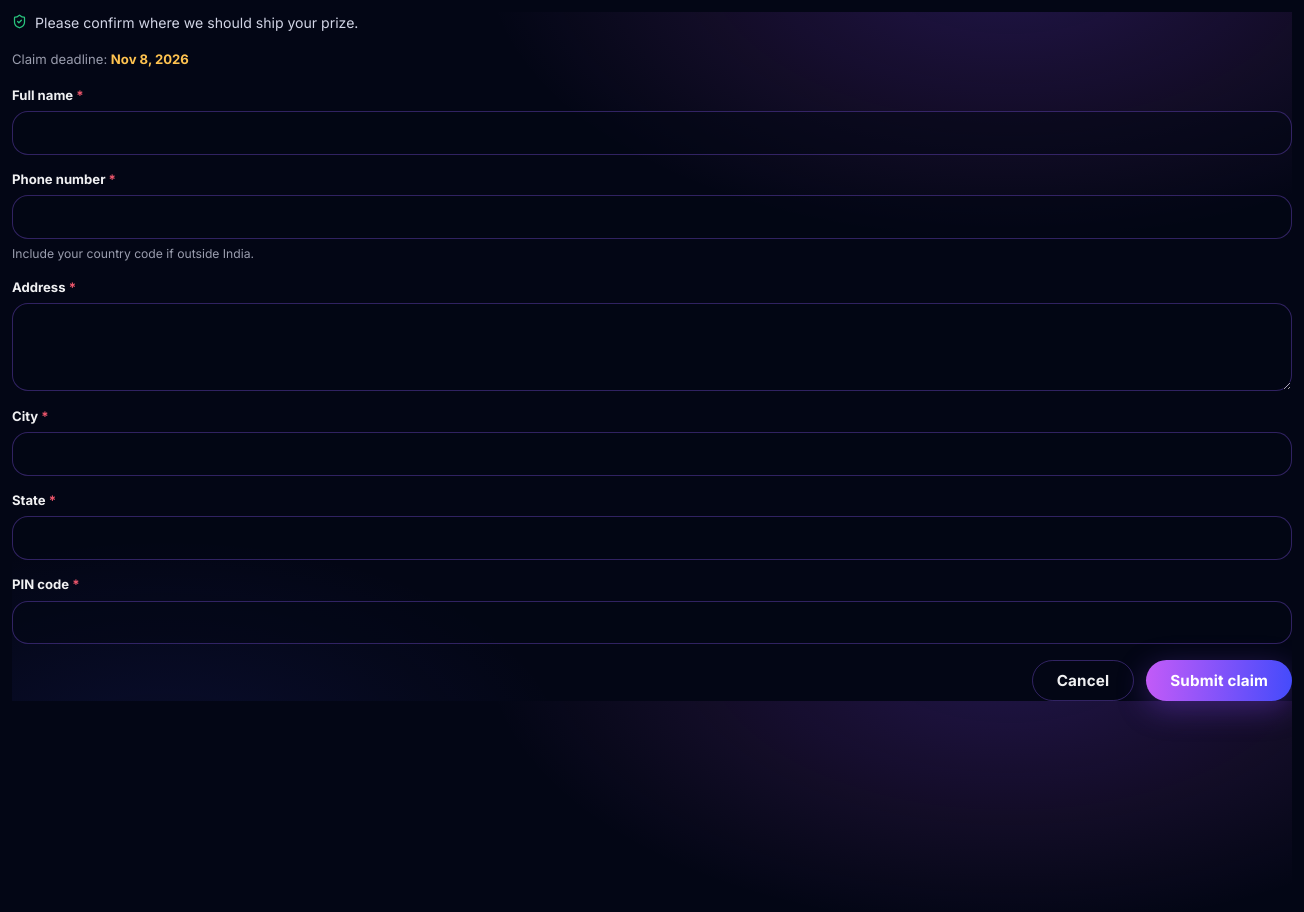
PrizeClaimForm submission › renders server VALIDATION errors onto the fields
Type "Asha Kumar" into the field labelled "Full name *".
click(652, 133); type("Asha Kumar")  # box x1=12 y1=111 x2=1292 y2=155
Type "9876543210" into the field labelled "Phone number *".
click(652, 217); type("9876543210")  # box x1=12 y1=195 x2=1292 y2=239
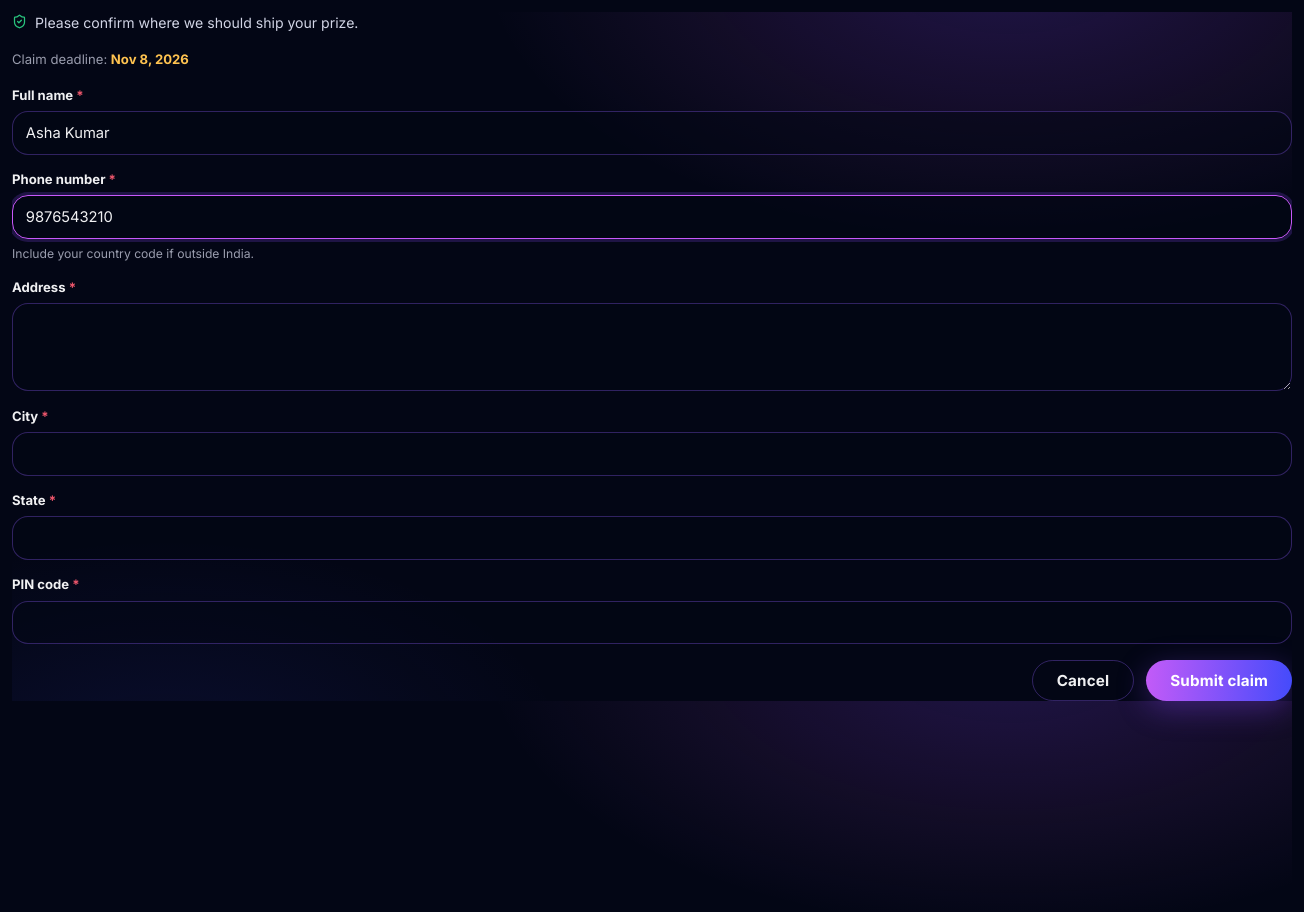
Type "12 MG Road" into the text box labelled "Address *".
click(652, 347); type("12 MG Road")  # box x1=12 y1=303 x2=1292 y2=391
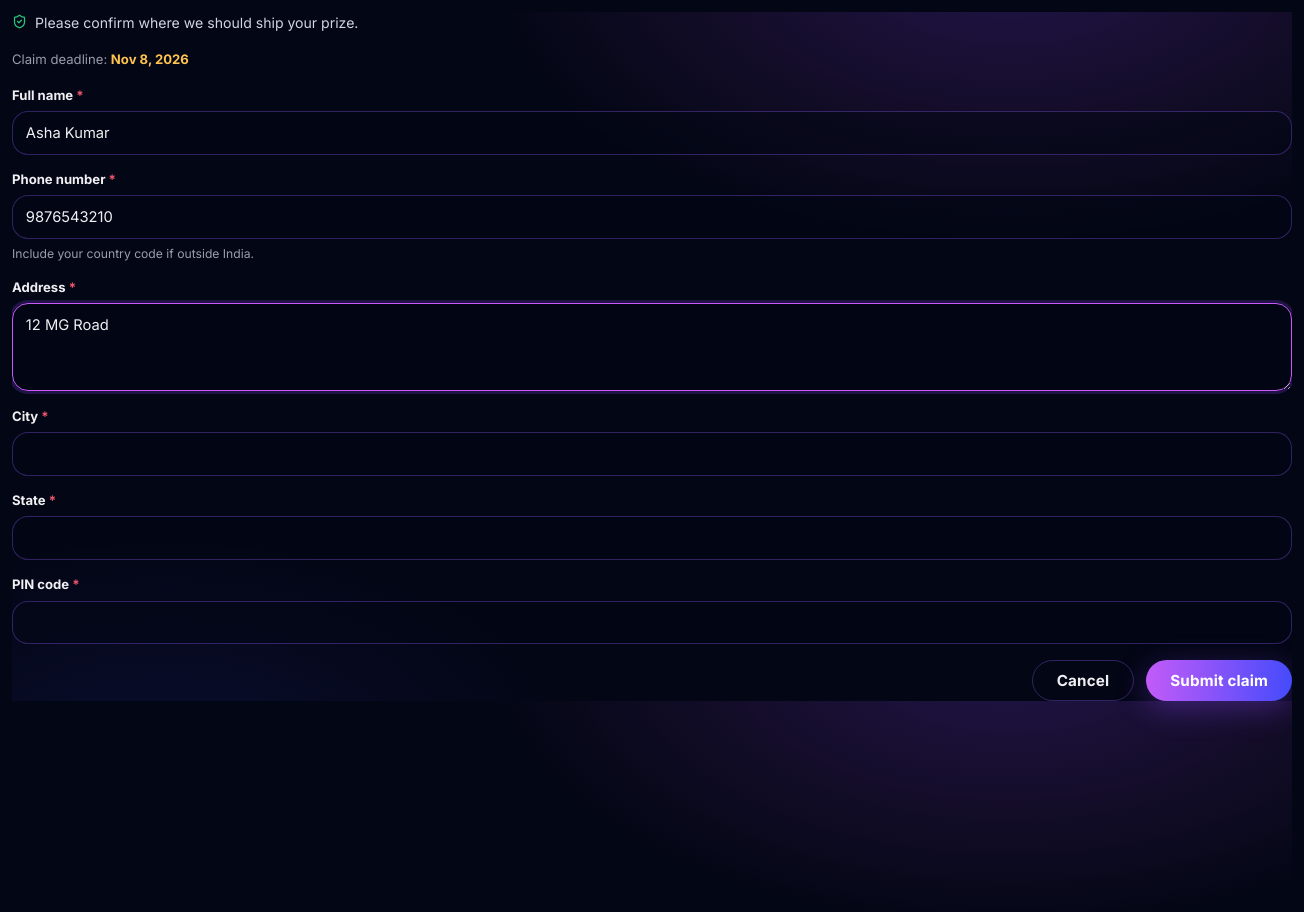
Type "Pune" into the field labelled "City *".
click(652, 454); type("Pune")  # box x1=12 y1=432 x2=1292 y2=476
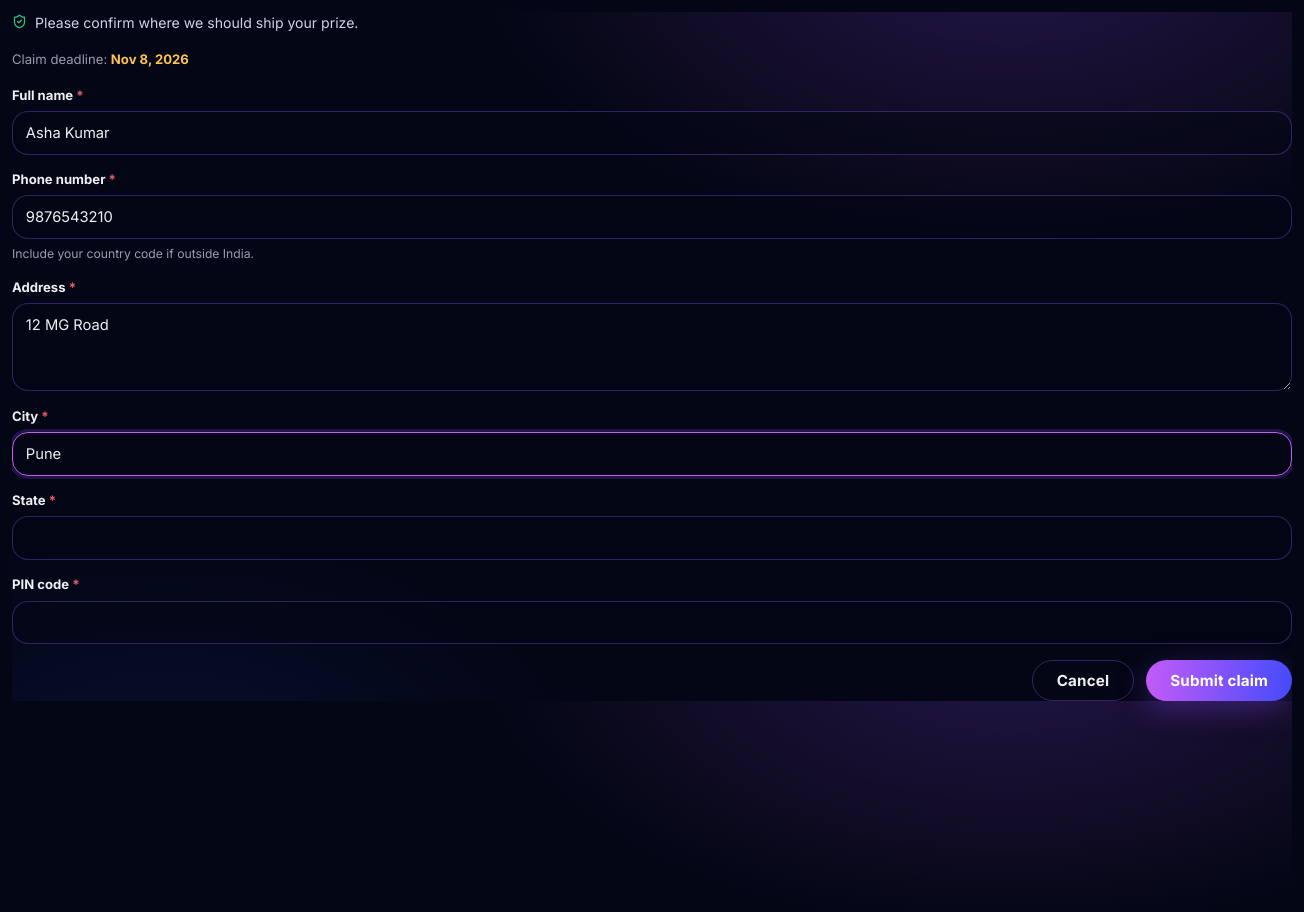
Type "Maharashtra" into the field labelled "State *".
click(652, 538); type("Maharashtra")  # box x1=12 y1=516 x2=1292 y2=560
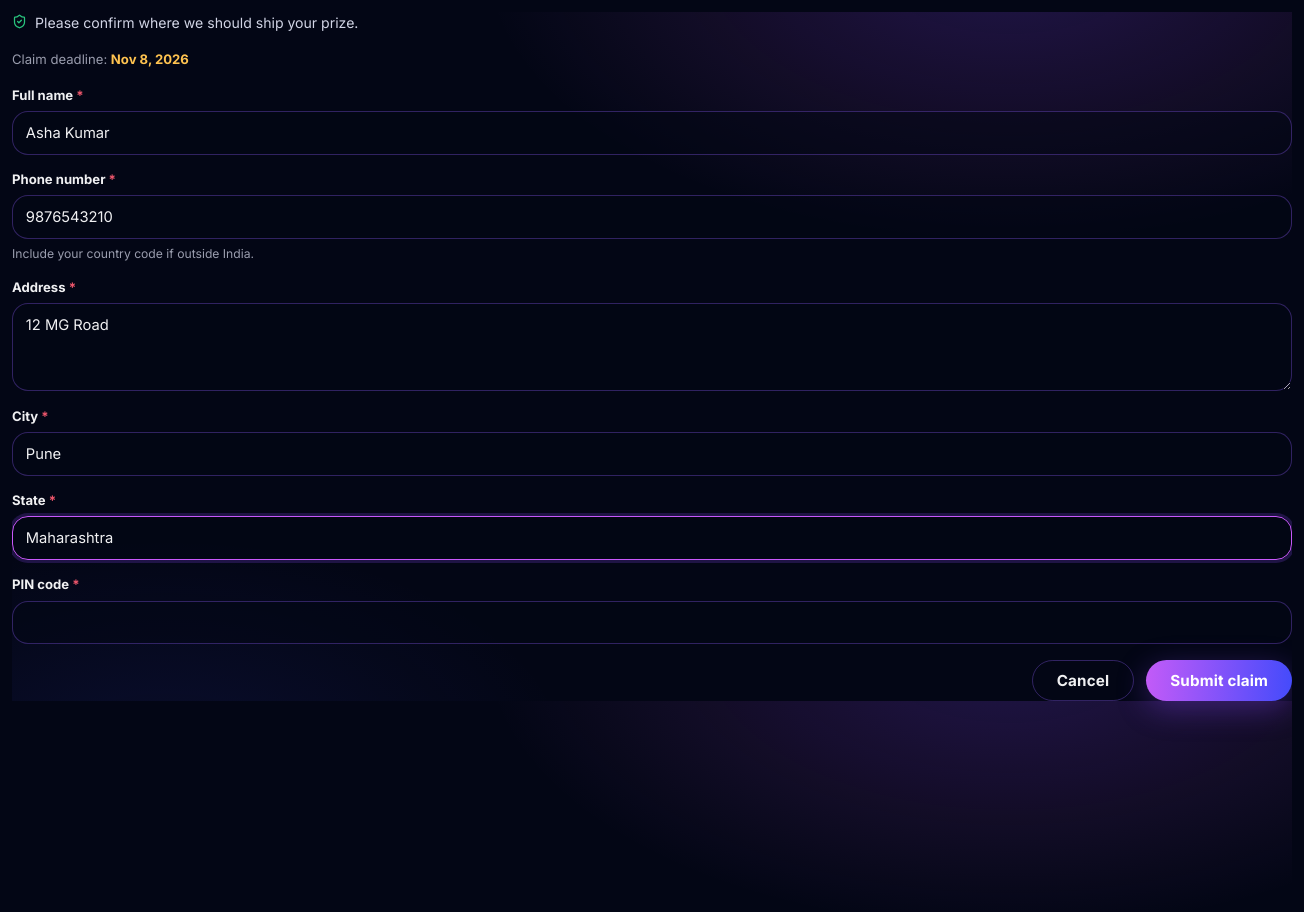
Type "123456" into the field labelled "PIN code *".
click(652, 623); type("123456")  # box x1=12 y1=601 x2=1292 y2=644
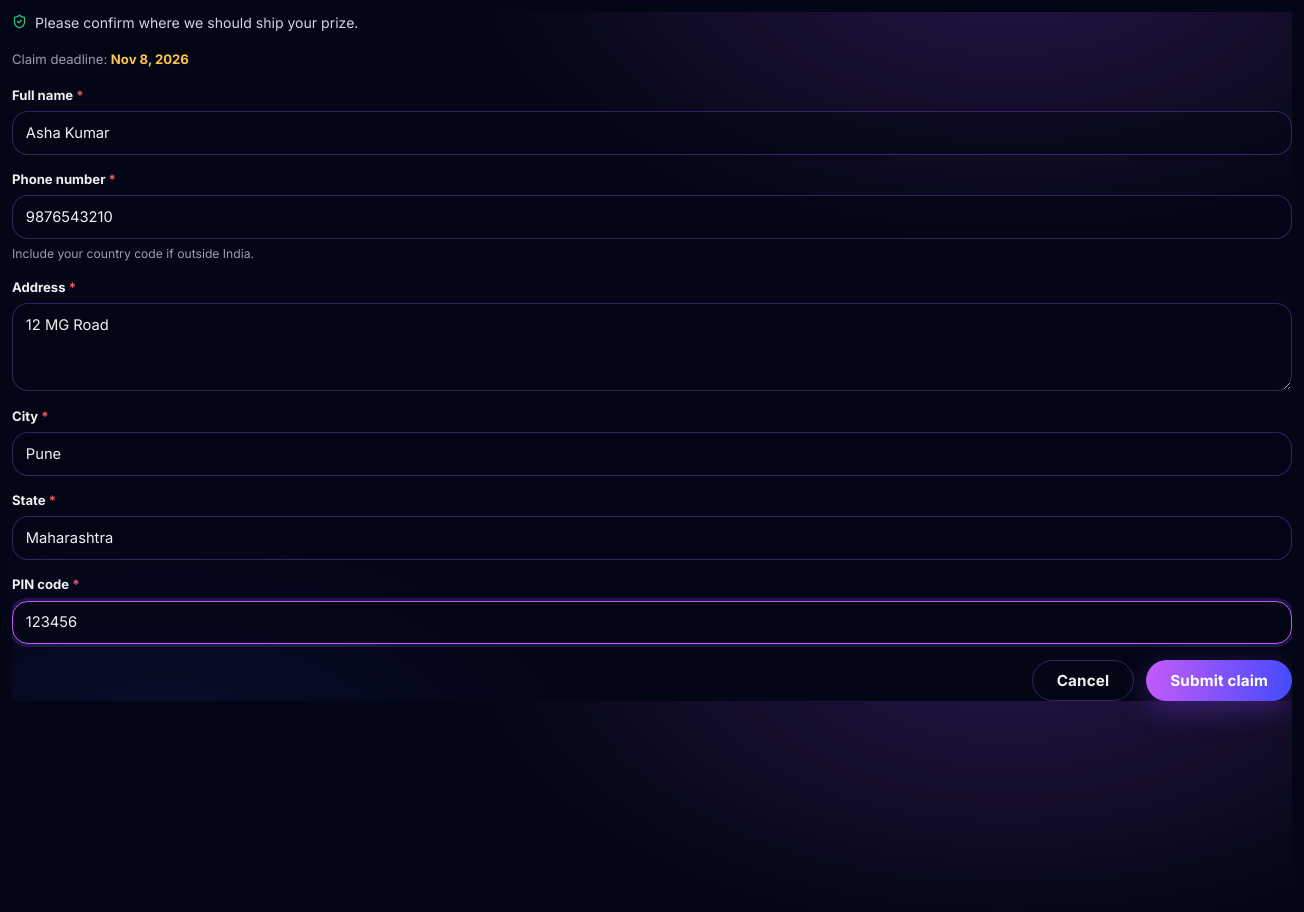
Click the button "Submit claim".
click(1219, 681)  # box x1=1146 y1=660 x2=1292 y2=701
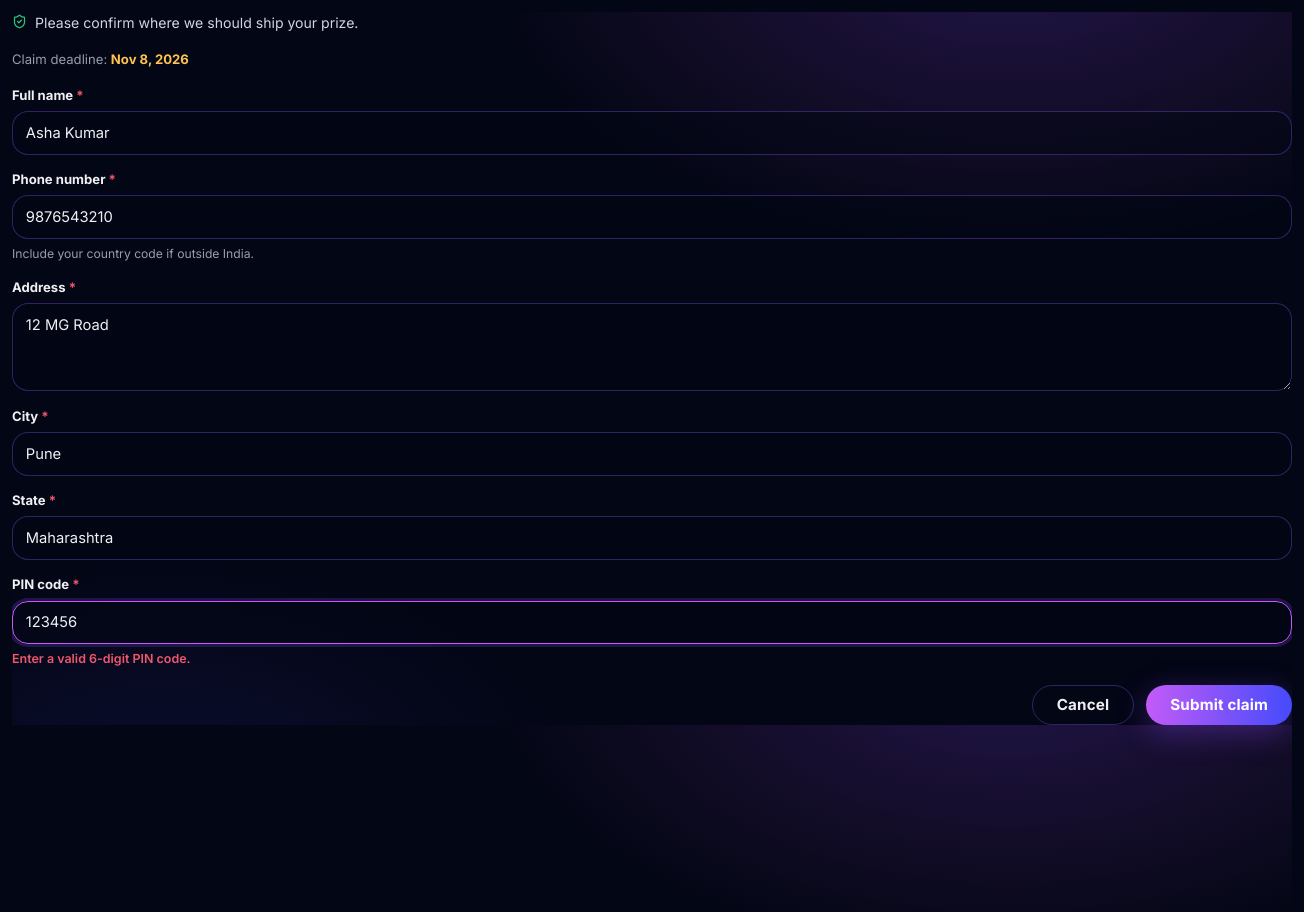
expect the text "Enter a valid 6-digit PIN code." is shown: met, box x1=12 y1=651 x2=191 y2=666
